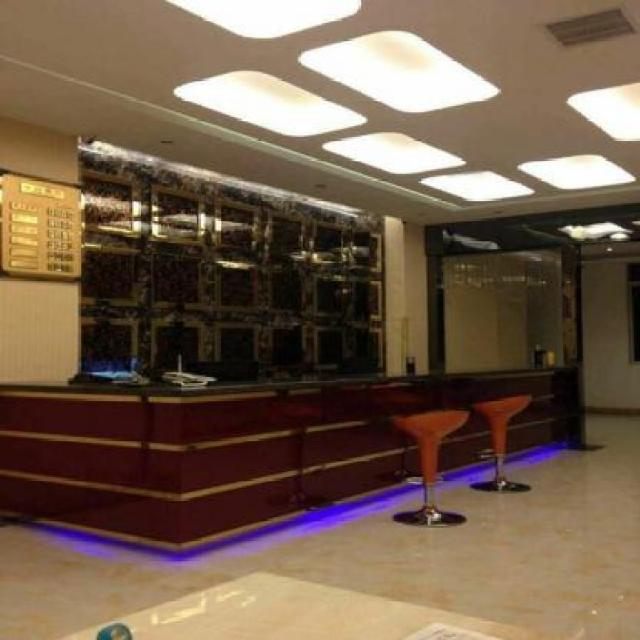frontdesk: (0, 335, 584, 563)
